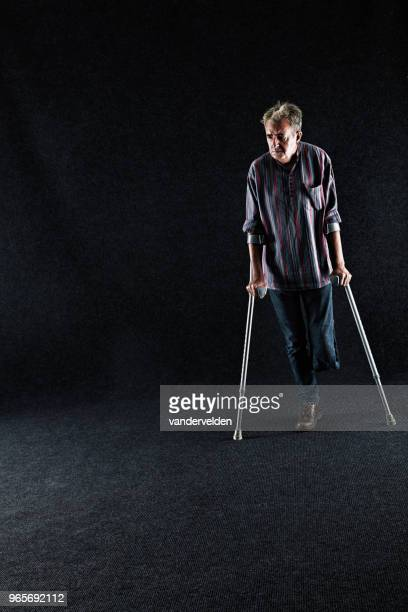crutches: (228, 98, 395, 444)
